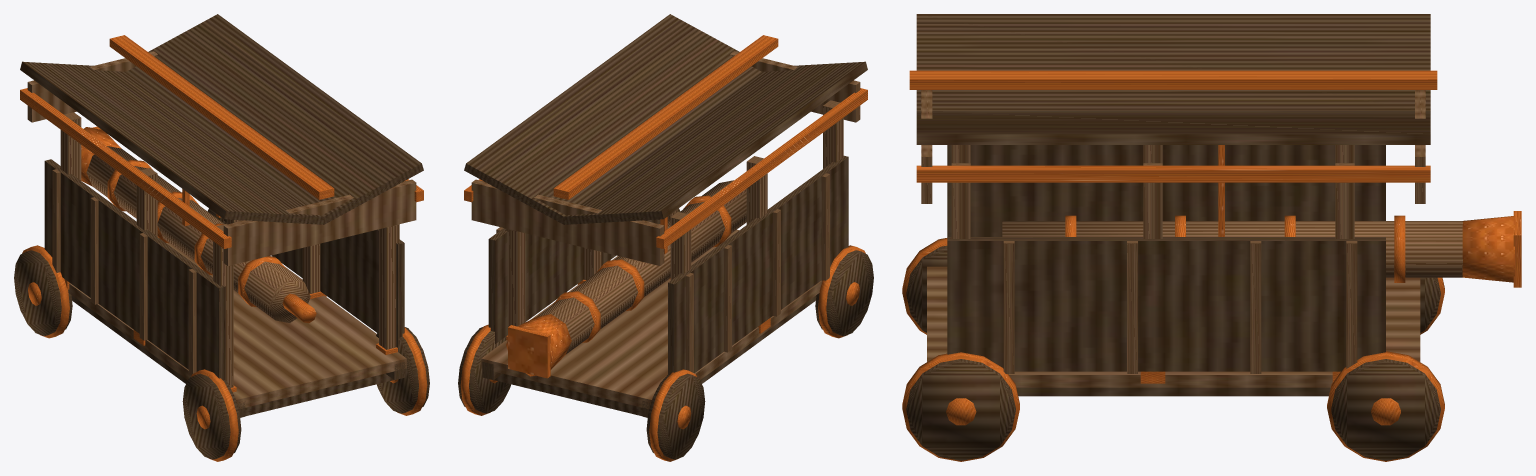
Rendered from ae_ram_bronze_lod0.glb.
3 renders of one model, left to right at view 1: azimuth 30°, elevation 25°; view 2: azimuth 150°, elevation 25°; view 3: azimuth 270°, elevation 25°, orthographic. The views are drawn at different scales.
Parts seen in each view (by area): view 1: roofR, wallL, roofL, floor, gable_r, log_core, wallR, ridge, eaveL, wheel_RL_rim, wheel_FL_rim, post_1_0 (+19 smaller); view 2: roofR, roofL, wallL, floor, gable_f, log_core, wallR, ridge, eaveL, wheel_FL_rim, wheel_RL_rim, wheel_FR_rim (+20 smaller); view 3: wallR, roofL, wallL, roofR, ridge, floor, eaveR, log_core, wheel_RR_rim, wheel_FR_rim, ram_head, runnerR (+17 smaller).
Boxes of the visible parts, x1=… form: roofR: x1=126, y1=14, x2=423, y2=224; wallL: x1=44, y1=159, x2=225, y2=380; roofL: x1=20, y1=61, x2=325, y2=224; floor: x1=68, y1=243, x2=406, y2=408; gable_r: x1=223, y1=179, x2=416, y2=265; log_core: x1=86, y1=146, x2=310, y2=322; wallR: x1=224, y1=219, x2=404, y2=347; ridge: x1=109, y1=35, x2=334, y2=199; eaveL: x1=20, y1=88, x2=231, y2=248; wheel_RL_rim: x1=182, y1=373, x2=241, y2=459; wheel_FL_rim: x1=14, y1=250, x2=72, y2=336; post_1_0: x1=379, y1=224, x2=399, y2=349; roofR: x1=464, y1=14, x2=761, y2=224; roofL: x1=562, y1=61, x2=867, y2=224; wallL: x1=668, y1=155, x2=848, y2=374; floor: x1=481, y1=229, x2=822, y2=409; gable_f: x1=471, y1=179, x2=664, y2=265; log_core: x1=537, y1=180, x2=746, y2=354; wallR: x1=488, y1=219, x2=660, y2=343; ridge: x1=553, y1=35, x2=778, y2=199; eaveL: x1=656, y1=88, x2=867, y2=248; wheel_FL_rim: x1=646, y1=373, x2=705, y2=459; wheel_RL_rim: x1=815, y1=250, x2=873, y2=336; wheel_FR_rim: x1=458, y1=327, x2=510, y2=413; wallR: x1=947, y1=237, x2=1385, y2=371; roofL: x1=916, y1=14, x2=1430, y2=110; wallL: x1=947, y1=145, x2=1385, y2=236; roofR: x1=916, y1=111, x2=1430, y2=144; ridge: x1=909, y1=70, x2=1437, y2=89; floor: x1=927, y1=266, x2=1420, y2=387; eaveR: x1=916, y1=165, x2=1430, y2=182; log_core: x1=1002, y1=221, x2=1462, y2=277; wheel_RR_rim: x1=906, y1=359, x2=1015, y2=460; wheel_FR_rim: x1=1331, y1=359, x2=1440, y2=460; ram_head: x1=1462, y1=216, x2=1514, y2=282; runnerR: x1=1016, y1=387, x2=1330, y2=396.
Size of the model in its own units: 2.2 by 2.64 by 4.52.
2 materials, 2 textured.
